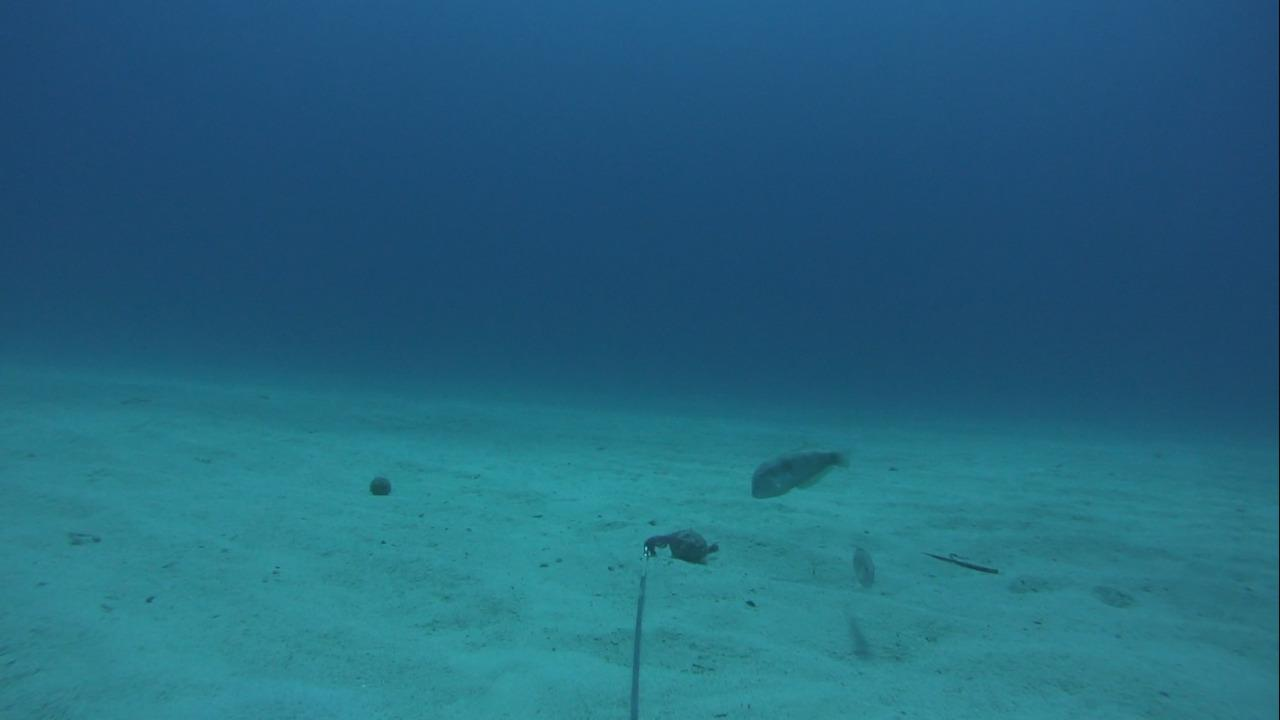raor: (745, 443, 852, 502), (846, 533, 877, 590)
